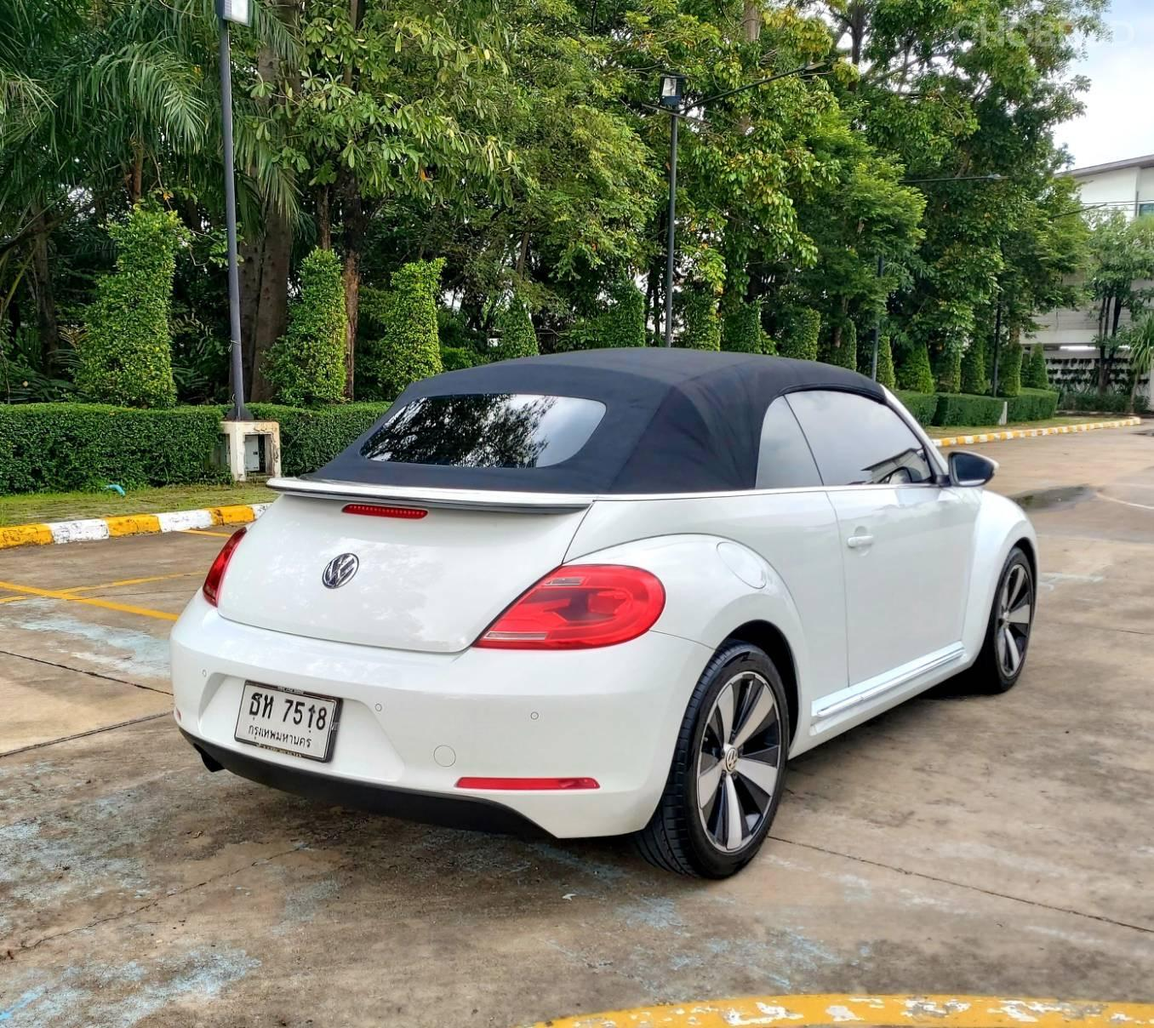license-plate: (235, 674, 345, 767)
